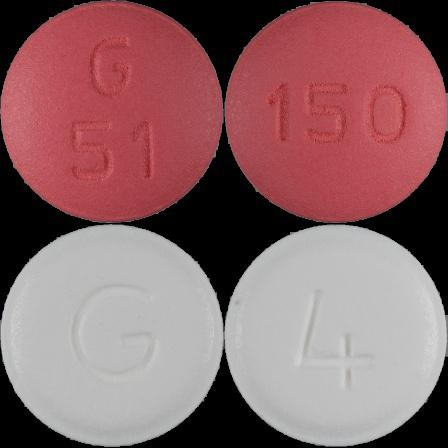55154-3675: (0, 0, 224, 224)
